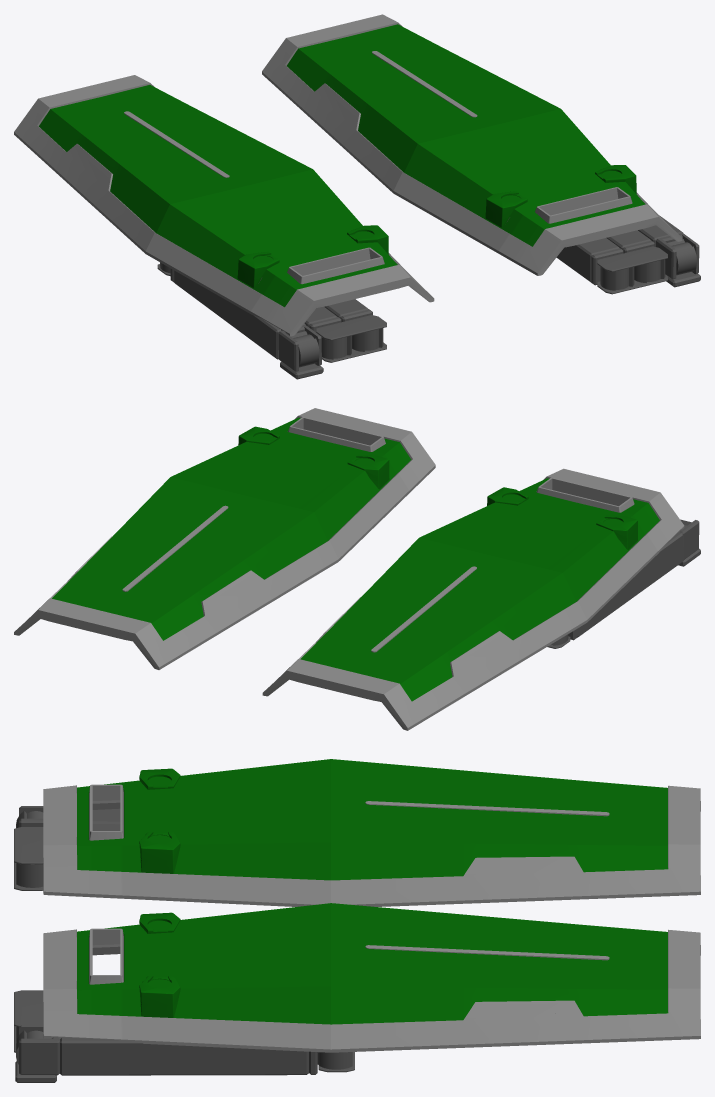
Rendered from Cardigan Shield.fbx.
The picture shows the model from 3 angles, top to bottom: view 1: azimuth 30°, elevation 25°; view 2: azimuth 150°, elevation 25°; view 3: azimuth 270°, elevation 25°; orthographic projection. The views are drawn at different scales.
Visible parts, largest first — view 1: Shield_2, Shield_1, Shield_Arm_1_Arm_1, Shield_Arm_2_Joint_7, Shield_Arm_1_Joint_7, Shield_Arm_2_Arm_3, Shield_Arm_1_Joint_2, Shield_Arm_1_Joint_1, Shield_Arm_2_Joint_1, Shield_Arm_2_Joint_2, Shield_Arm_2_Joint_8, Shield_Arm_1_Joint_6; view 2: Shield_2, Shield_1, Shield_Arm_1_Arm_1, Shield_Arm_1_Joint_2; view 3: Shield_2, Shield_1, Shield_Arm_2_Arm_1, Shield_Arm_2_Joint_2, Shield_Arm_1_Joint_7, Shield_Arm_2_Joint_7, Shield_Arm_2_Joint_3, Shield_Arm_1_Joint_8, Shield_Arm_2_Joint_1.
Part boxes in pixels (bbox=[...]): Shield_2: bbox=[262, 14, 682, 275]; Shield_1: bbox=[14, 75, 434, 336]; Shield_Arm_1_Arm_1: bbox=[174, 270, 305, 359]; Shield_Arm_2_Joint_7: bbox=[597, 246, 667, 294]; Shield_Arm_1_Joint_7: bbox=[316, 315, 386, 362]; Shield_Arm_2_Arm_3: bbox=[556, 238, 619, 282]; Shield_Arm_1_Joint_2: bbox=[278, 325, 321, 371]; Shield_Arm_1_Joint_1: bbox=[280, 331, 323, 379]; Shield_Arm_2_Joint_1: bbox=[666, 239, 700, 287]; Shield_Arm_2_Joint_2: bbox=[656, 233, 699, 279]; Shield_Arm_2_Joint_8: bbox=[591, 248, 634, 290]; Shield_Arm_1_Joint_6: bbox=[309, 317, 351, 359]; Shield_2: bbox=[14, 408, 435, 669]; Shield_1: bbox=[262, 468, 684, 730]; Shield_Arm_1_Arm_1: bbox=[577, 532, 682, 637]; Shield_Arm_1_Joint_2: bbox=[679, 520, 699, 560]; Shield_2: bbox=[43, 903, 700, 1052]; Shield_1: bbox=[43, 759, 700, 906]; Shield_Arm_2_Arm_1: bbox=[60, 1037, 308, 1075]; Shield_Arm_2_Joint_2: bbox=[19, 1025, 59, 1075]; Shield_Arm_1_Joint_7: bbox=[14, 827, 43, 890]; Shield_Arm_2_Joint_7: bbox=[14, 990, 43, 1052]; Shield_Arm_2_Joint_3: bbox=[309, 1051, 352, 1074]; Shield_Arm_1_Joint_8: bbox=[16, 863, 43, 887]; Shield_Arm_2_Joint_1: bbox=[15, 1030, 56, 1082].
Size of the model in its own units: 12.5 by 2.11 by 14.19.
